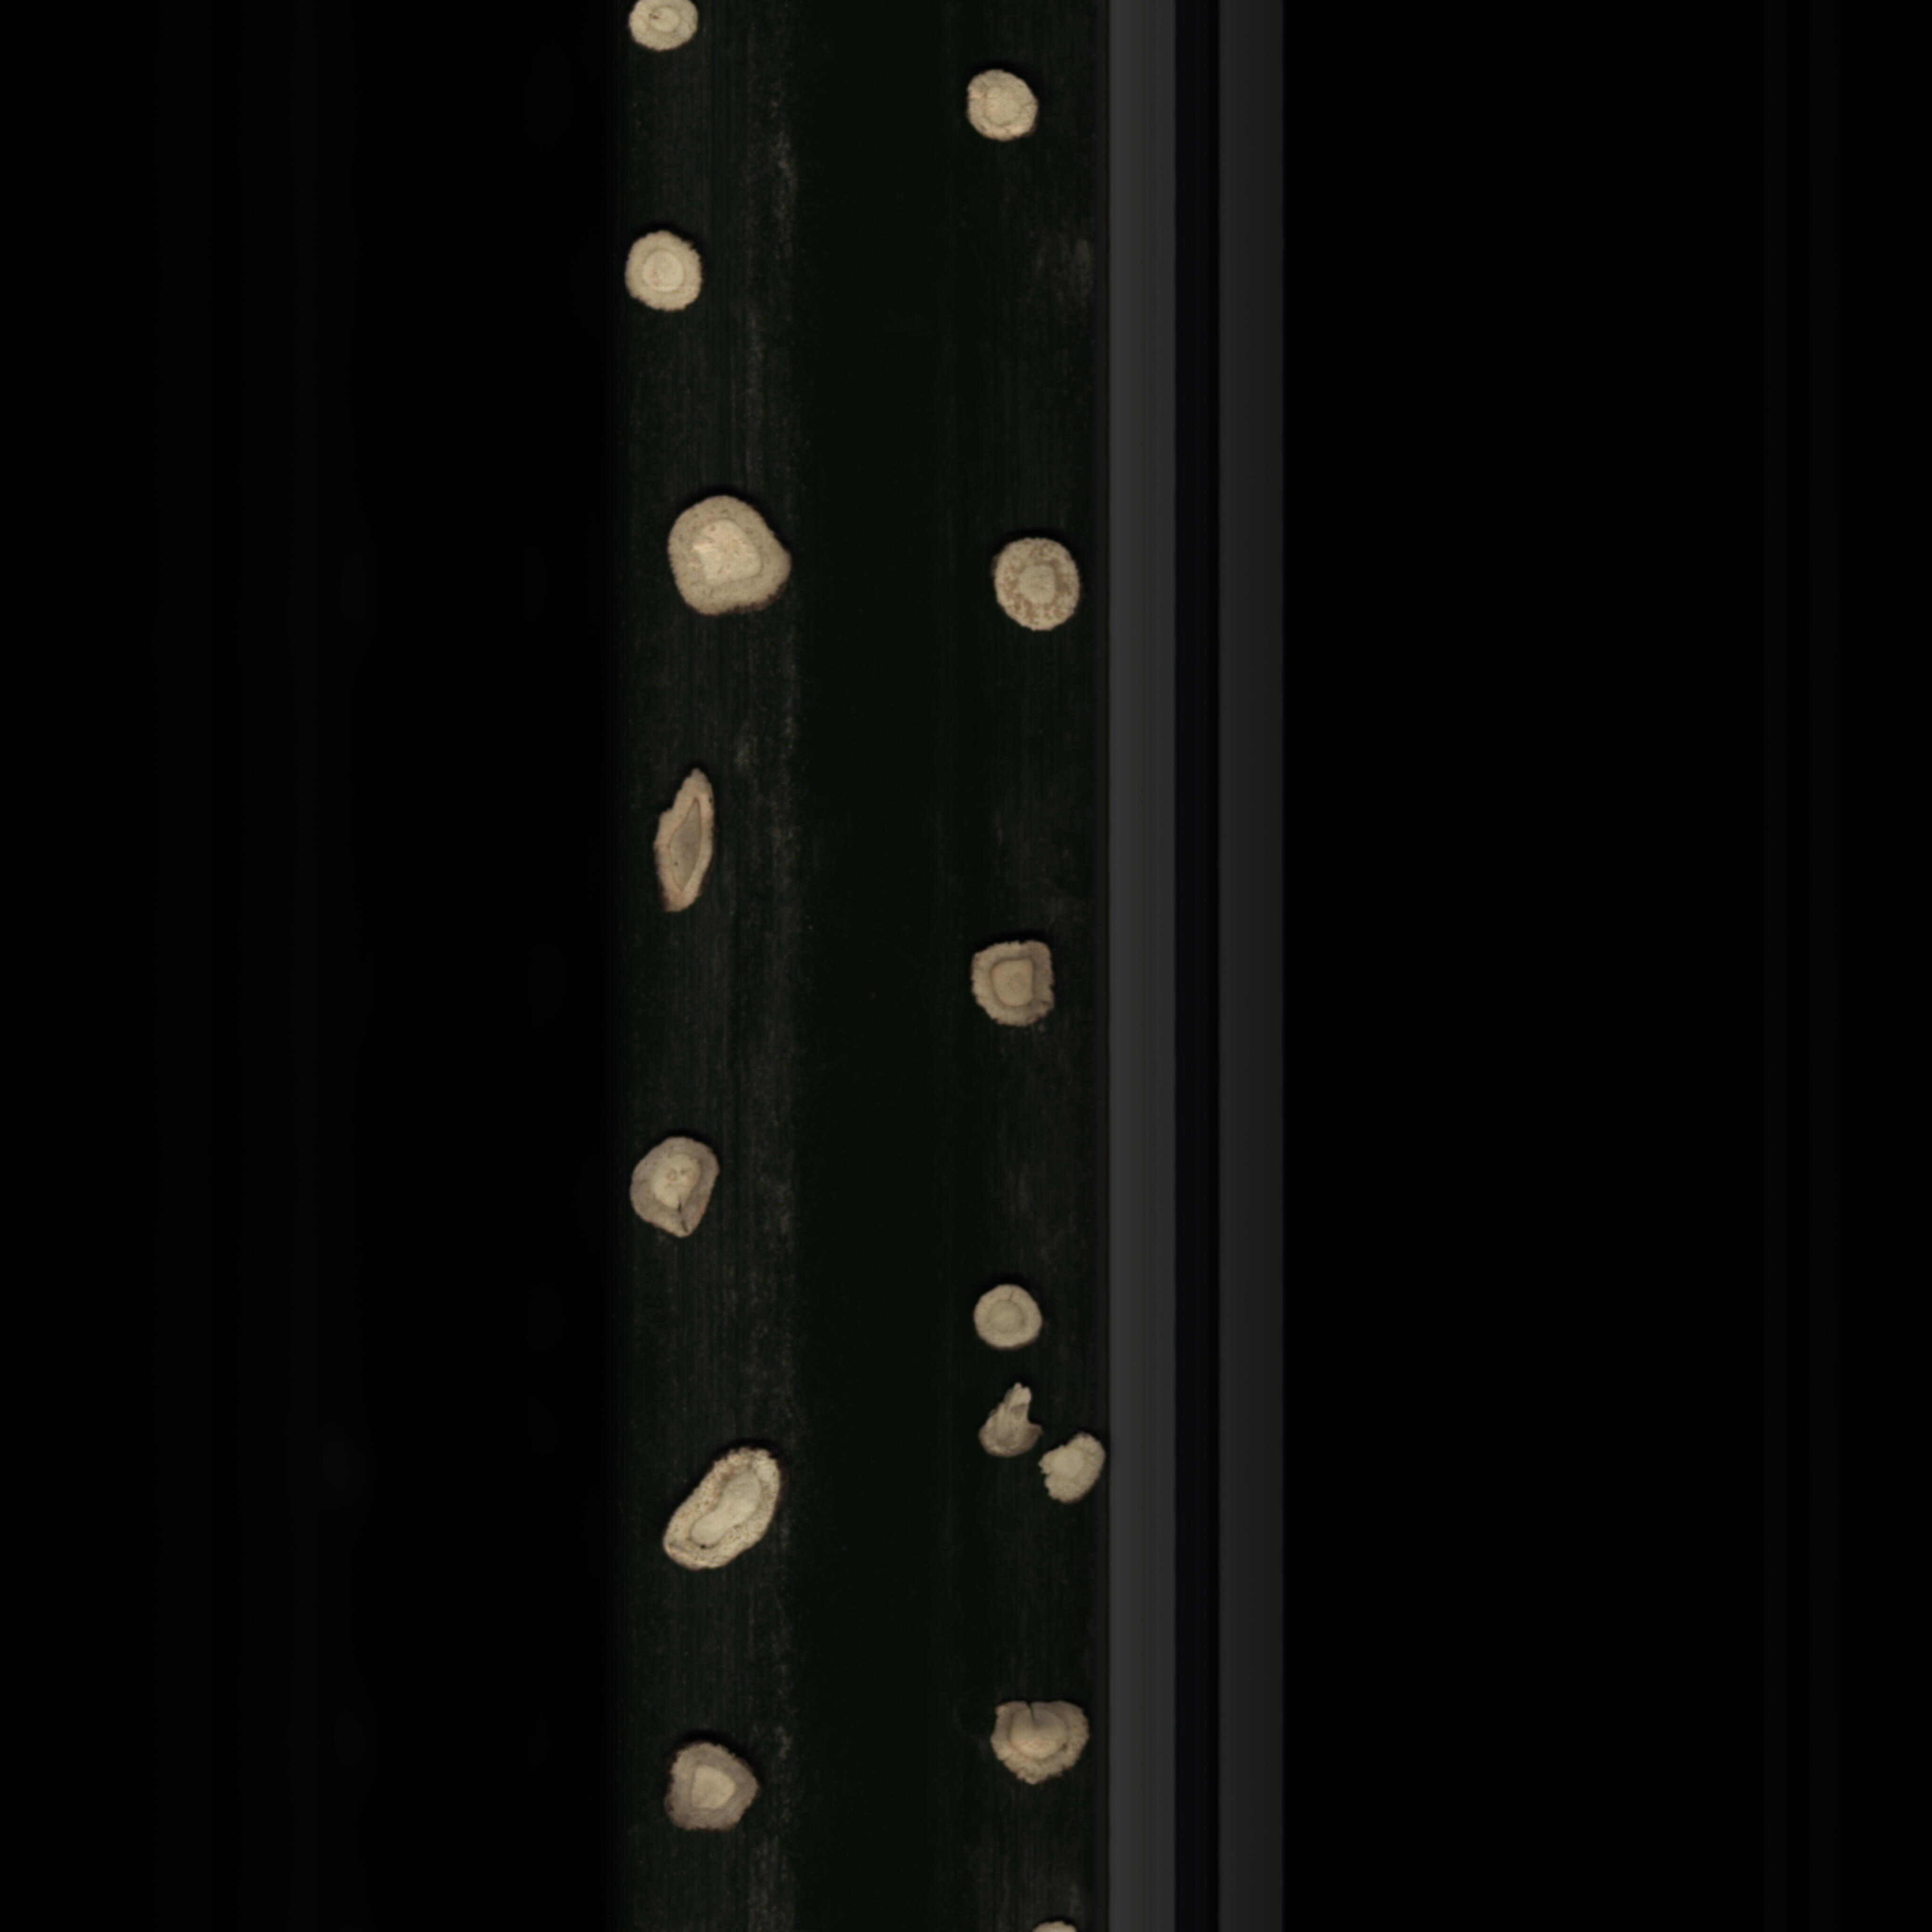debris: (978, 1697, 1088, 1794), (968, 1380, 1047, 1461), (1037, 1437, 1111, 1511)
distortion: (639, 761, 731, 925)
moldy: (957, 939, 1069, 1040)
